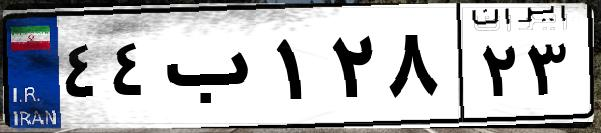1: (270, 28, 330, 110)
2: (330, 28, 385, 110), (475, 38, 525, 113)
3: (525, 38, 570, 115)
4: (57, 26, 110, 100), (110, 28, 158, 98)
8: (385, 28, 445, 110)
ب: (158, 20, 270, 120)
